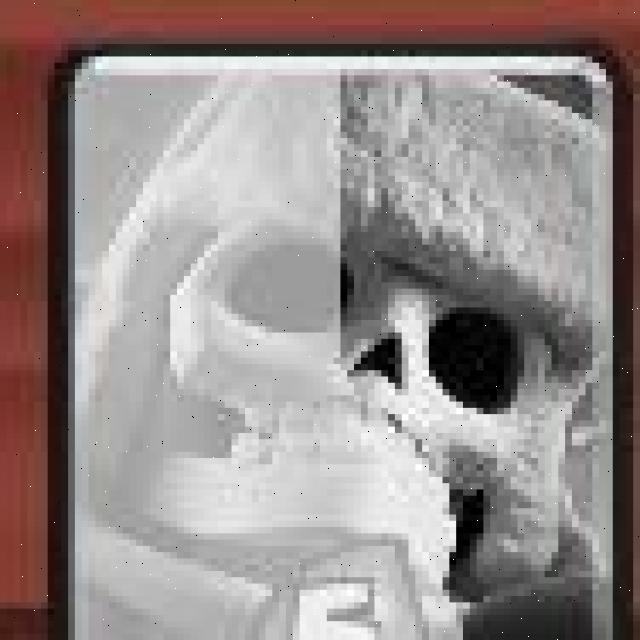Giant_Skeleton: (45, 52, 622, 640)
